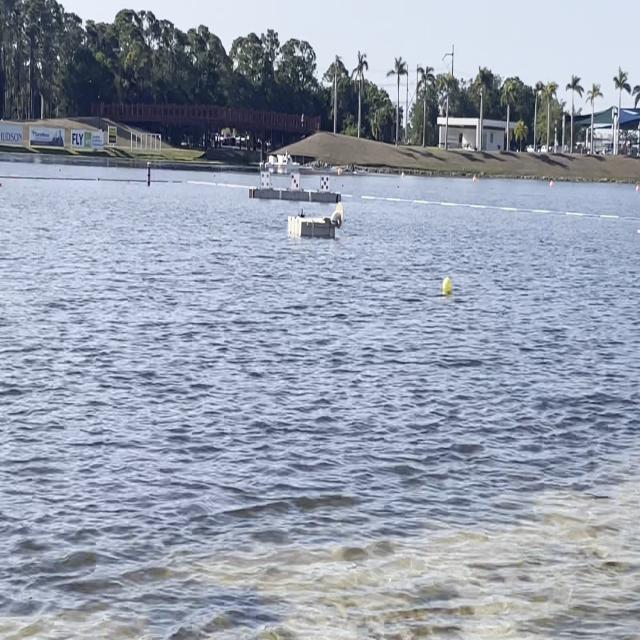buoy: (442, 278, 452, 292)
